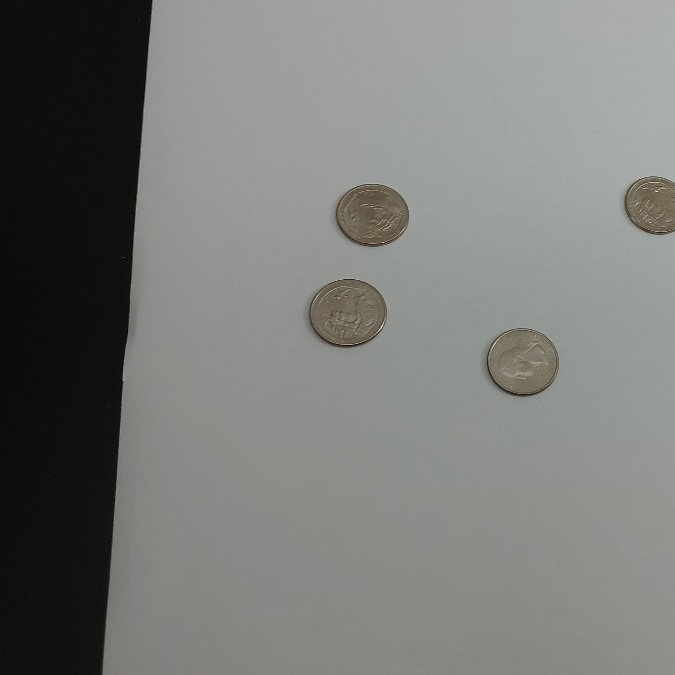coin_quarter: (305, 273, 387, 348), (333, 177, 415, 251), (480, 323, 561, 397)
